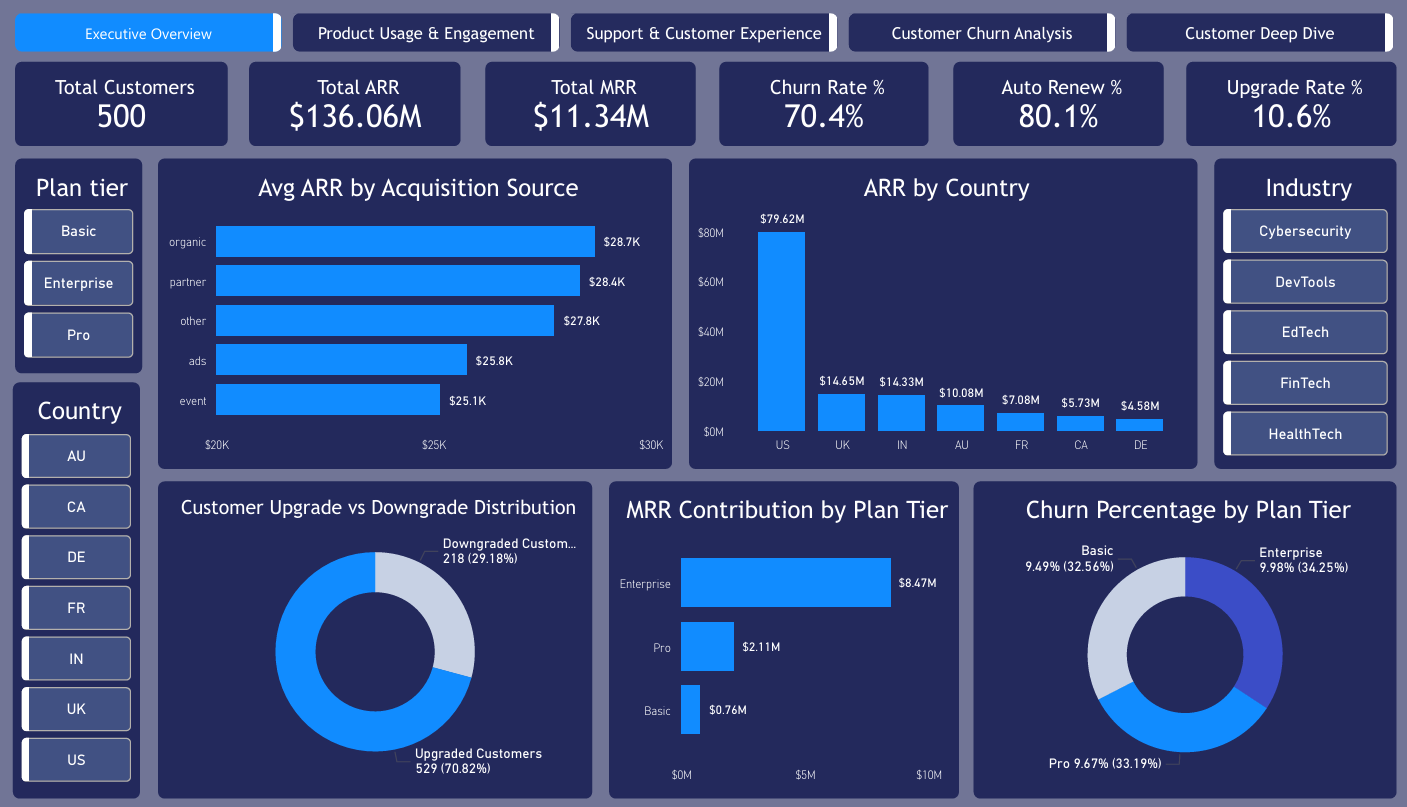

The dashboard page shown, as its layout file describes it:
{"tool":"powerbi","page":{"name":"Executive Overview","canvas":[1280,720],"ordinal":0},"visuals":[{"type":"card","title":"Total Customers","fields":{"Values":["DAX Measures.Total Customers"]},"box":[25.3,54.3,188.2,74.8],"z":0},{"type":"card","title":"Total ARR","fields":{"Values":["DAX Measures.Total ARR"]},"box":[232.8,54.3,188.2,74.8],"z":1000},{"type":"card","title":"Total MRR","fields":{"Values":["DAX Measures.Total MRR"]},"box":[442.8,54.3,187,74.8],"z":2000},{"type":"card","title":"Churn Rate %","fields":{"Values":["DAX Measures.Churn Rate"]},"box":[651.5,54.3,185.8,74.8],"z":3000},{"type":"card","title":"Auto Renew %","fields":{"Values":["DAX Measures.Auto Renew %"]},"box":[859,54.3,187,74.8],"z":4000},{"type":"card","title":"Upgrade Rate %","fields":{"Values":["DAX Measures.Upgrade Rate %"]},"box":[1066.5,54.3,187,74.8],"z":5000},{"type":"clusteredBarChart","title":"MRR Contribution by Plan Tier","fields":{"Category":["customer_subscriptions.plan_tier"],"Y":["Sum(customer_subscriptions.mrr_amount)"]},"box":[552.5,427.1,311.3,282.3],"z":6000},{"type":"clusteredColumnChart","title":"ARR by Country","fields":{"Category":["customer_accounts.country"],"Y":["Sum(customer_subscriptions.arr_amount)"]},"box":[623.7,139.9,452.4,276.3],"z":7000},{"type":"clusteredBarChart","title":"Avg ARR by Acquisition Source","fields":{"Category":["customer_accounts.referral_source"],"Y":["Avg(customer_subscriptions.arr_amount)"]},"box":[152,139.9,457.2,276.3],"z":8000},{"type":"donutChart","title":"Customer Upgrade vs Downgrade Distribution","fields":{"Y":["DAX Measures.Downgraded Customers","DAX Measures.Upgraded Customers"]},"box":[152,427.1,386.1,282.3],"z":9000},{"type":"donutChart","title":"Churn Percentage by Plan Tier ","fields":{"Category":["customer_subscriptions.plan_tier"],"Y":["DAX Measures.Plan Tier Churn %"]},"box":[877.1,427.1,376.4,282.3],"z":10000},{"type":"advancedSlicerVisual","title":"Country","fields":{"Values":["customer_accounts.country"]},"box":[22.9,339,113.4,370.4],"z":11000},{"type":"advancedSlicerVisual","title":"Industry","fields":{"Values":["customer_accounts.industry"]},"box":[1090.6,139.9,162.9,276.3],"z":12000},{"type":"advancedSlicerVisual","title":"Plan tier","fields":{"Values":["customer_subscriptions.plan_tier"]},"box":[25.3,139.9,112.2,190.6],"z":13000},{"type":"pageNavigator","box":[25.3,10.9,1228.2,33.8],"z":14001}]}

Visuals, with their boxes in screenshot pixels (x1, y1, x2, y2), scaled from the page's 1280x720 canvas onto the 1407x807 screenshot:
"Total Customers" card: 28,61,235,145
"Total ARR" card: 256,61,463,145
"Total MRR" card: 487,61,692,145
"Churn Rate %" card: 716,61,920,145
"Auto Renew %" card: 944,61,1150,145
"Upgrade Rate %" card: 1172,61,1378,145
"MRR Contribution by Plan Tier" clusteredBarChart: 607,479,950,795
"ARR by Country" clusteredColumnChart: 686,157,1183,466
"Avg ARR by Acquisition Source" clusteredBarChart: 167,157,670,466
"Customer Upgrade vs Downgrade Distribution" donutChart: 167,479,591,795
"Churn Percentage by Plan Tier " donutChart: 964,479,1378,795
"Country" advancedSlicerVisual: 25,380,150,795
"Industry" advancedSlicerVisual: 1199,157,1378,466
"Plan tier" advancedSlicerVisual: 28,157,151,370
pageNavigator: 28,12,1378,50
